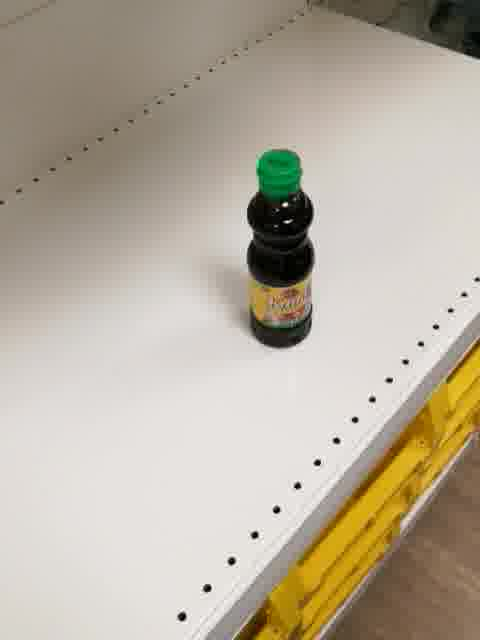cookingoil: (244, 148, 317, 351)
